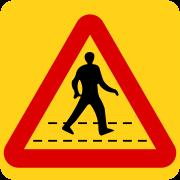Pedestrian Crossing: (11, 15, 174, 167)
